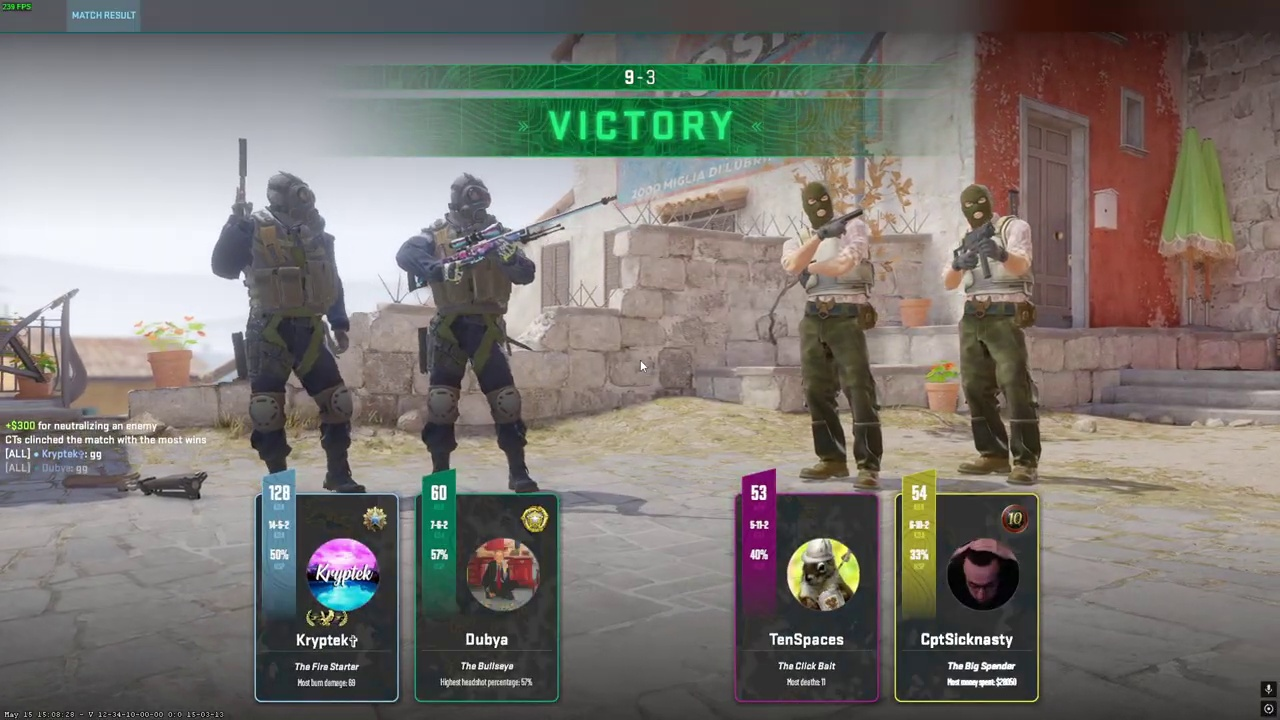CT: (232, 171, 363, 496), (413, 172, 529, 496)
Terrorist: (786, 181, 883, 490), (949, 183, 1041, 484)
